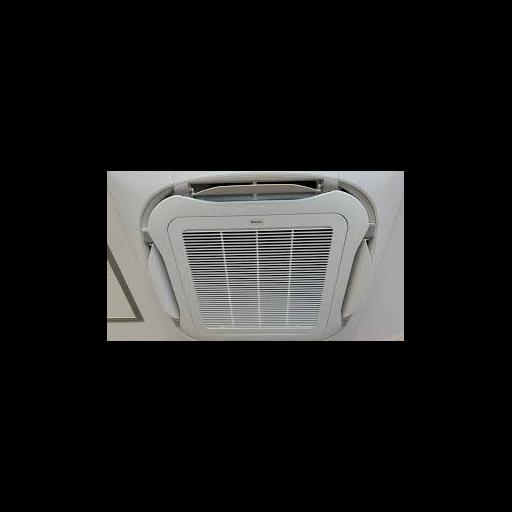4-way-ac: (120, 172, 402, 341)
